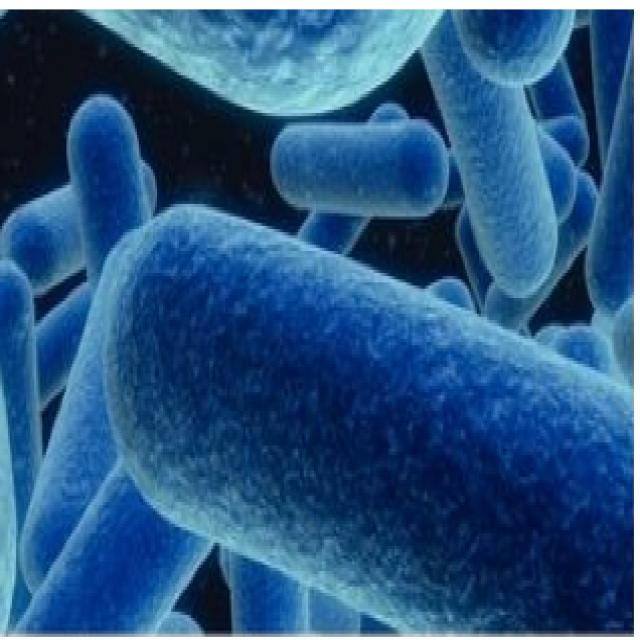Rod_bacteria: (2, 16, 636, 637)
